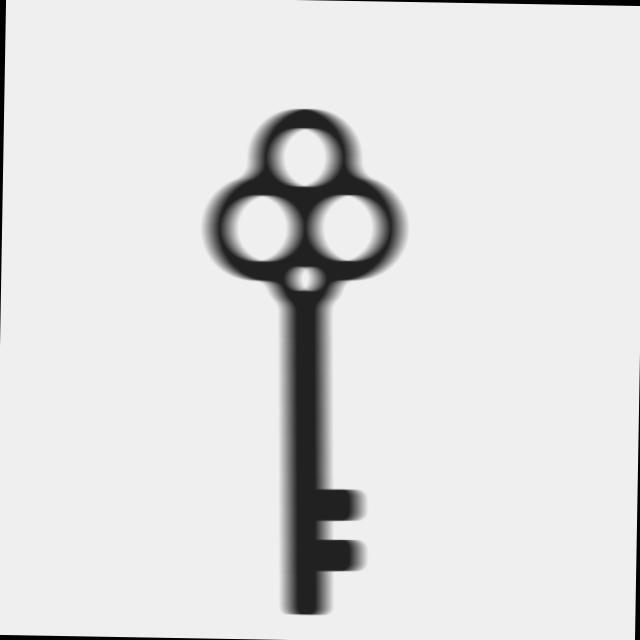key: (186, 102, 419, 628)
